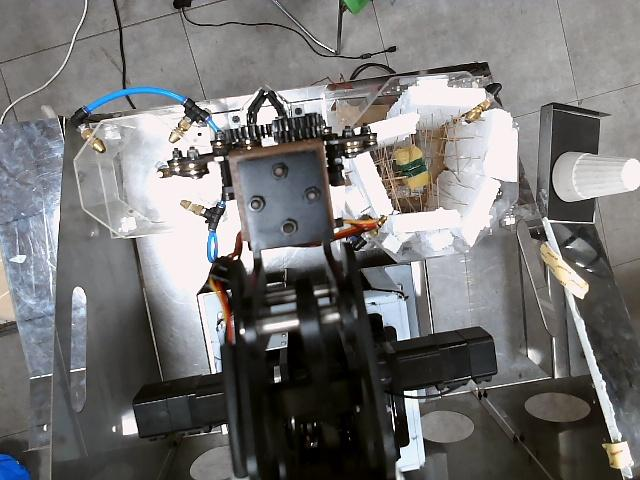cup: (553, 152, 639, 201)
